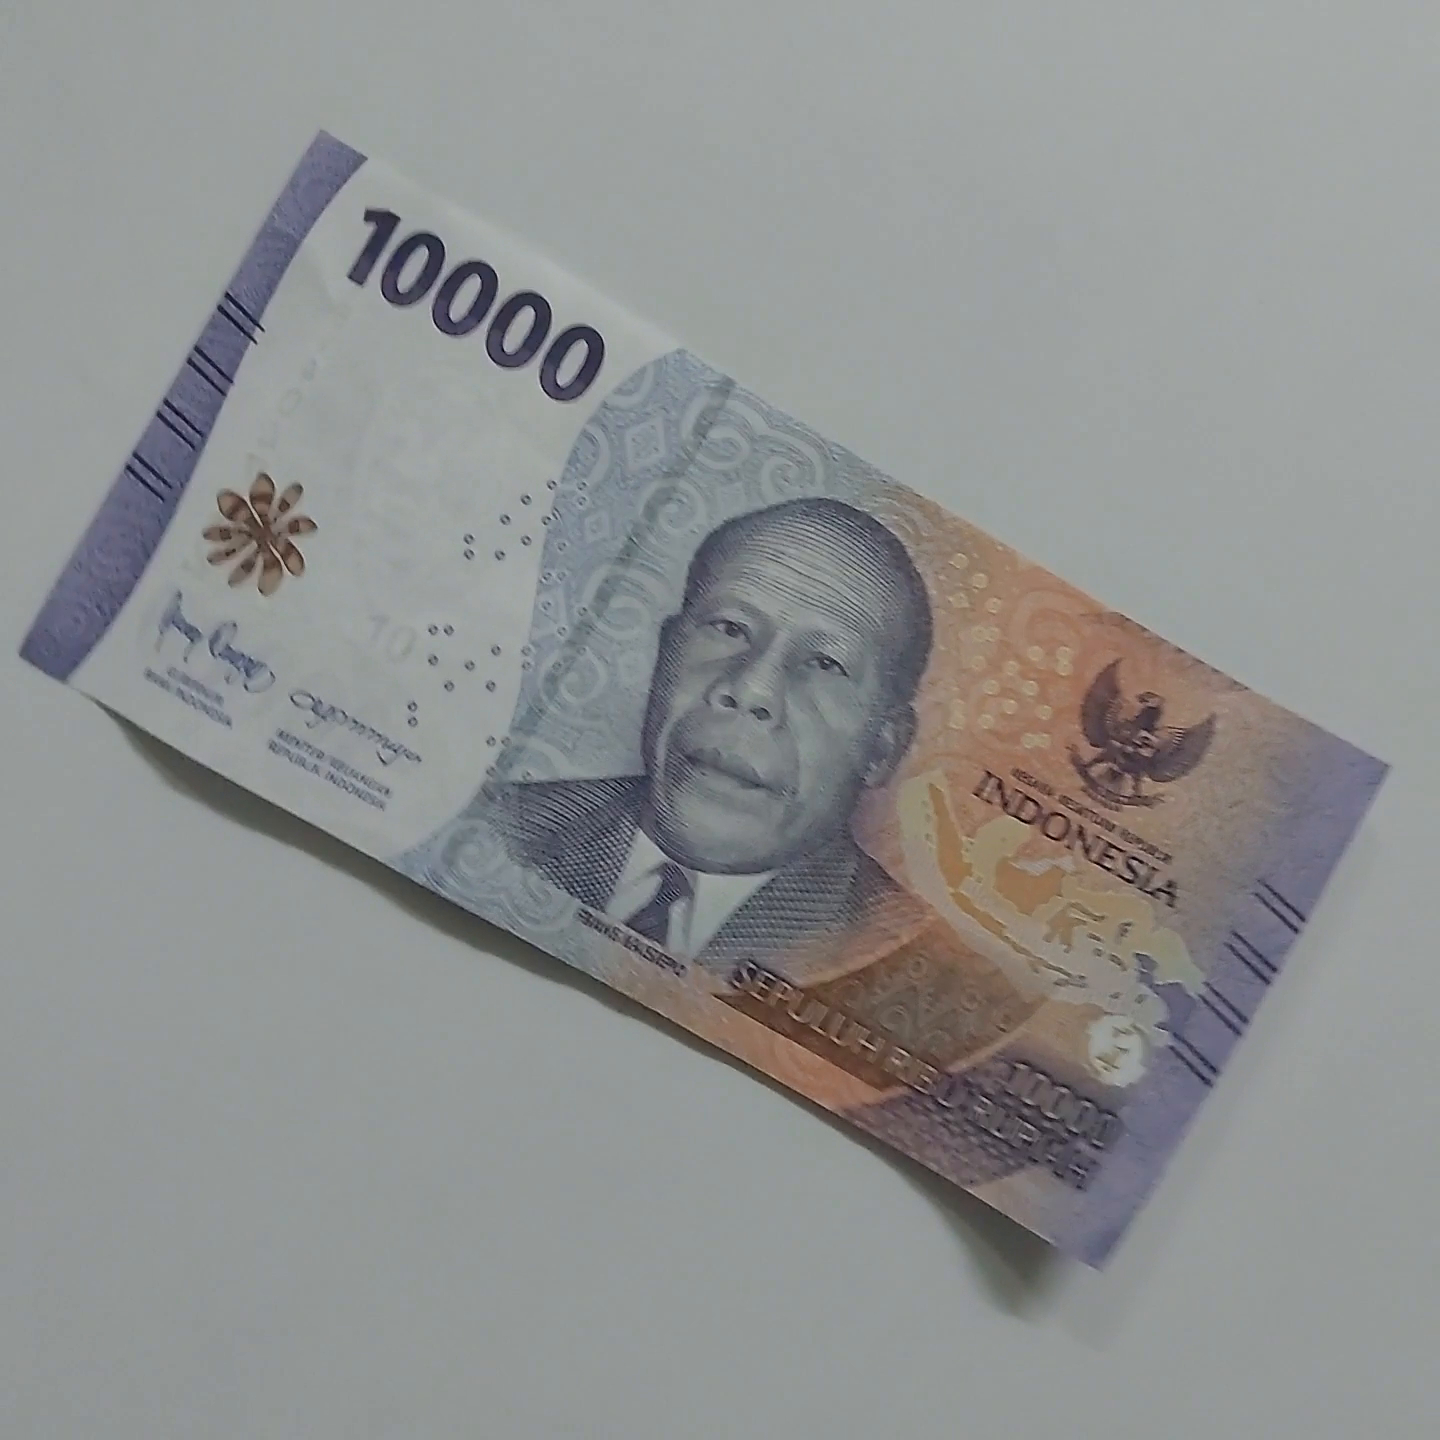10k: (319, 137, 1440, 735)
